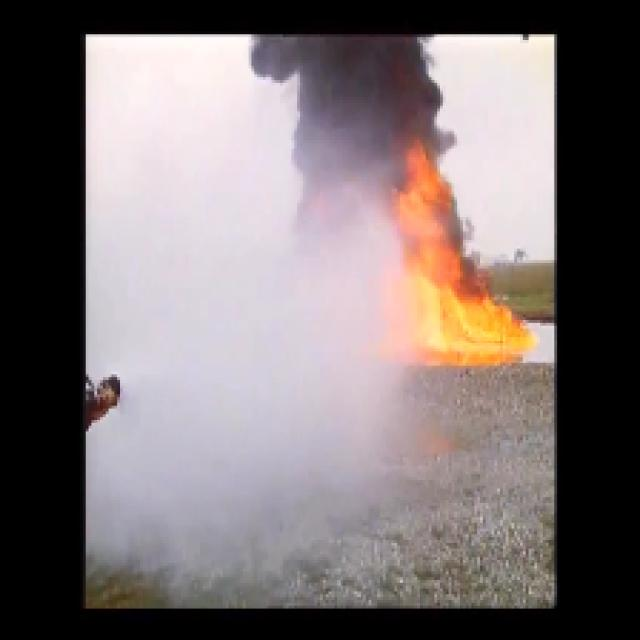fire: (418, 291, 527, 360)
smoke: (302, 32, 435, 150)
